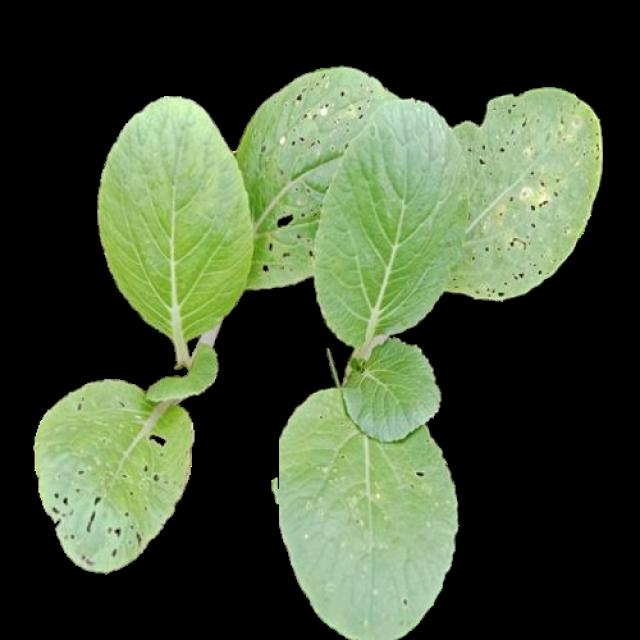not-mature: (278, 91, 602, 640), (31, 93, 256, 571)
unhealthy: (275, 388, 457, 640), (239, 64, 393, 284), (450, 90, 600, 300), (35, 376, 193, 567)
